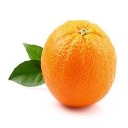orange: (38, 17, 119, 109)
